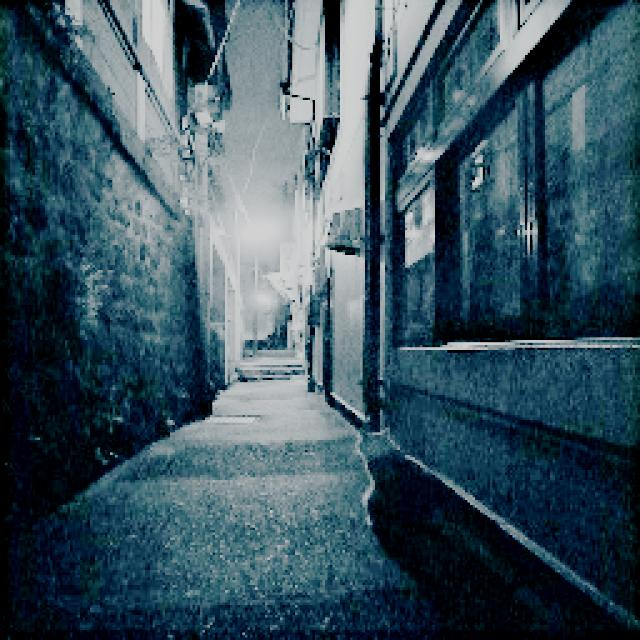cat: (320, 412, 471, 560)
